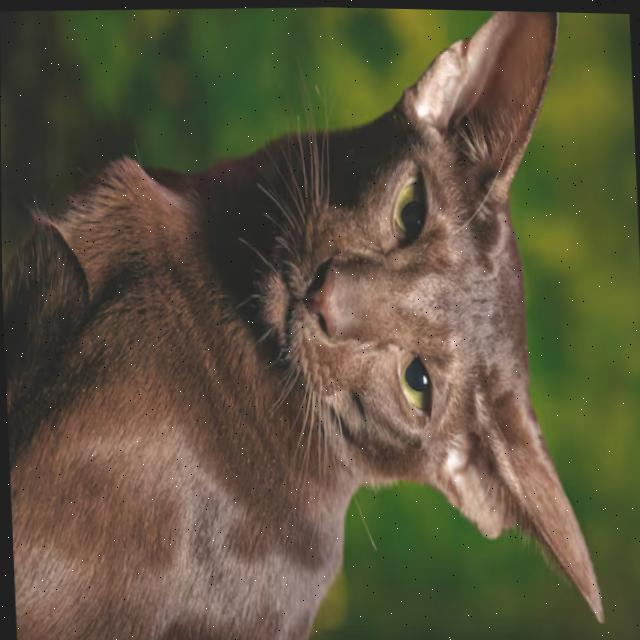Oriental: (0, 0, 612, 640)
